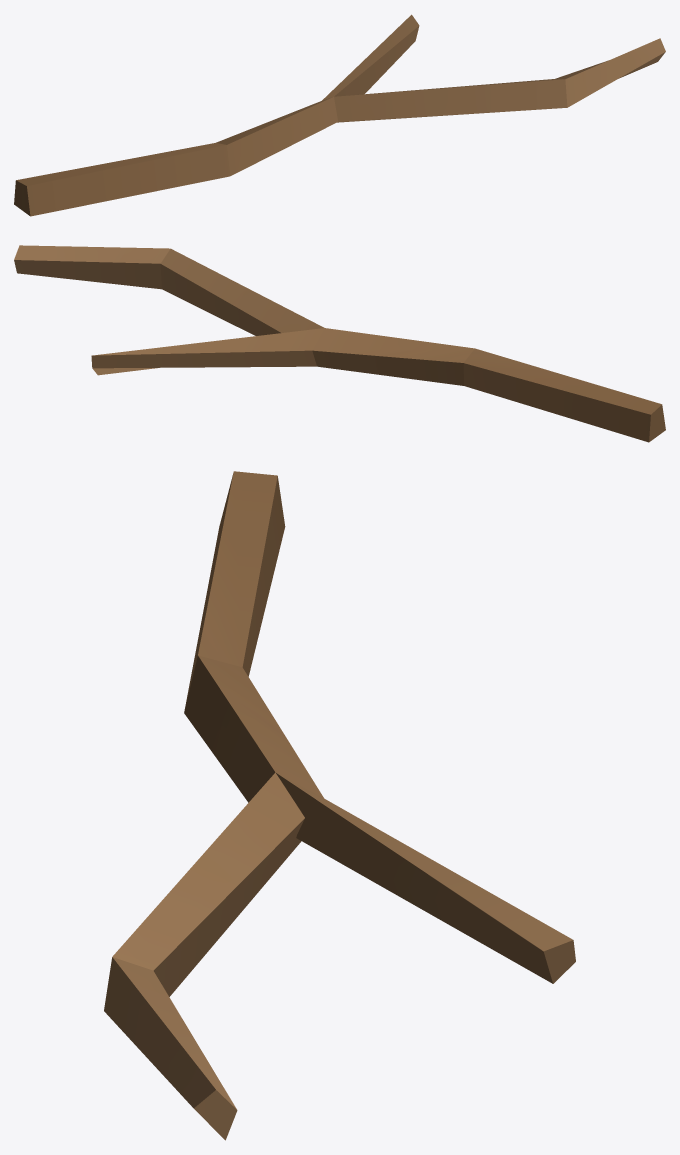
Rendered from branch_01.fbx.
The picture shows the model from 3 angles, top to bottom: view 1: azimuth 30°, elevation 25°; view 2: azimuth 150°, elevation 25°; view 3: azimuth 270°, elevation 25°; orthographic projection. The views are drawn at different scales.
Parts seen in each view (by area): view 1: branch_01; view 2: branch_01; view 3: branch_01.
Part boxes in pixels (<box>): branch_01: <box>14,14,665,216</box>; branch_01: <box>14,245,665,442</box>; branch_01: <box>104,471,575,1140</box>.
Size of the model in its own units: 2 by 0.1 by 0.65.
Materials: 1 (1 with a texture image).
